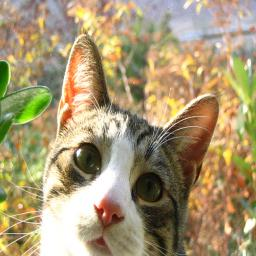catnose: (94, 197, 124, 230)
